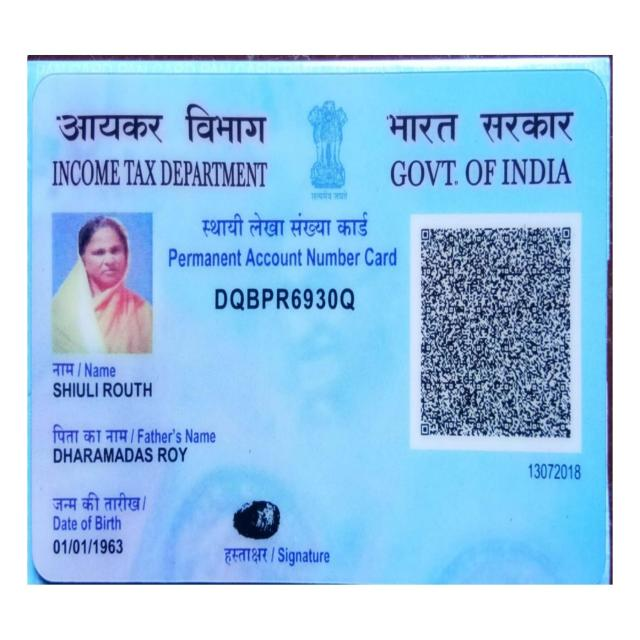pan_card: (38, 77, 603, 582)
